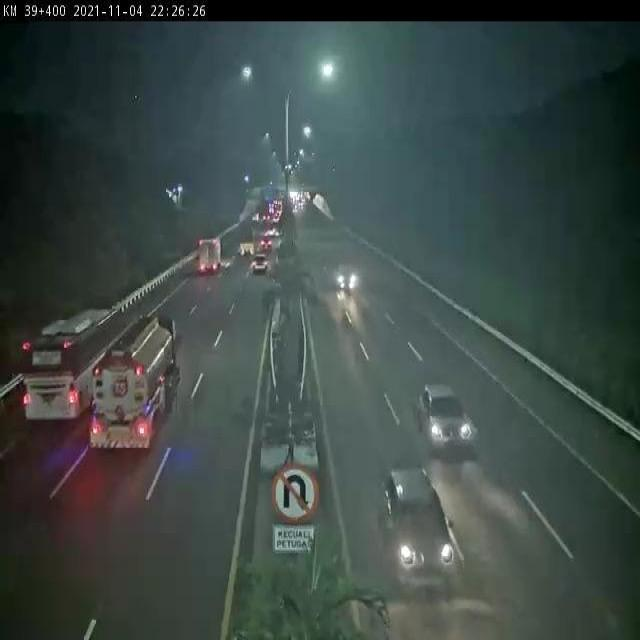bus-l-: (23, 308, 95, 425)
car: (381, 469, 457, 594), (417, 383, 476, 456), (336, 262, 359, 294), (253, 252, 267, 271)
truck-l-: (198, 237, 221, 271)
truck-m-: (241, 232, 254, 255)
truck-xl-: (90, 312, 179, 449)
